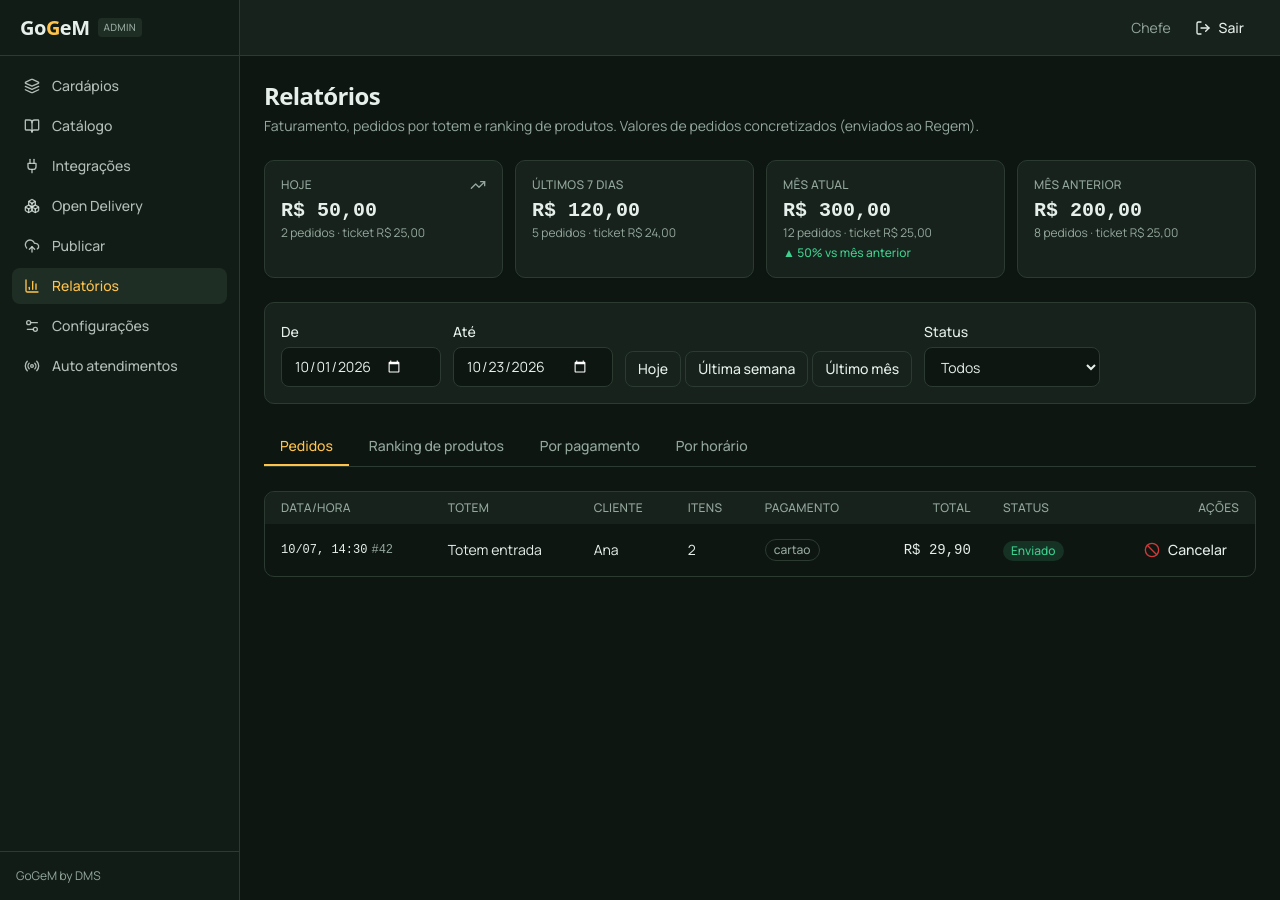
Test: Relatórios › cancela um pedido enviado com motivo
What coordinates should you click on to do the following:
click the button with aria-label "Cancelar pedido"
I would click on:
 (1186, 550)
Its box is [1132,532,1239,568].
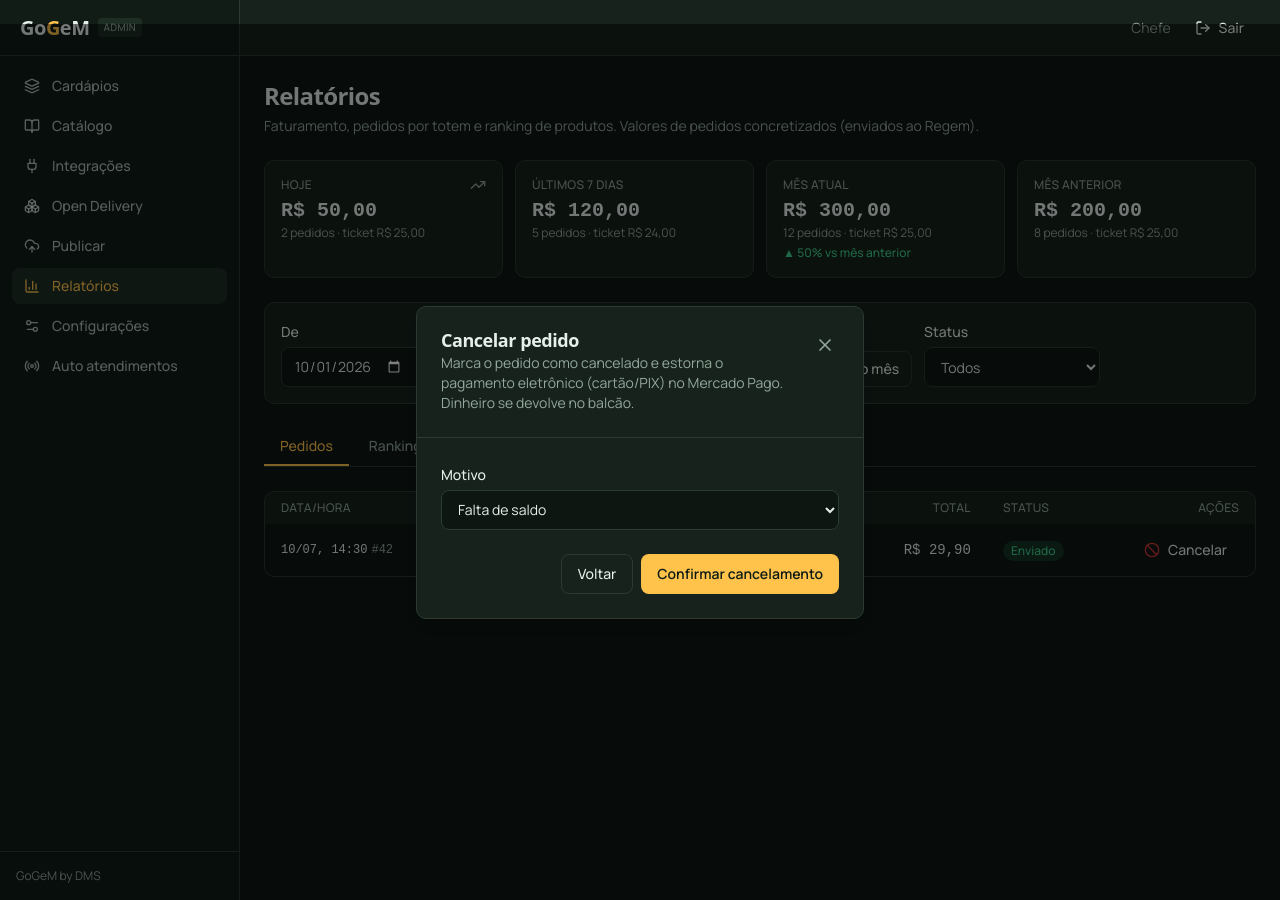
What coordinates should you click on to do the following:
click the button "Confirmar cancelamento"
I would click on:
 (740, 574)
Its box is [641,554,839,594].
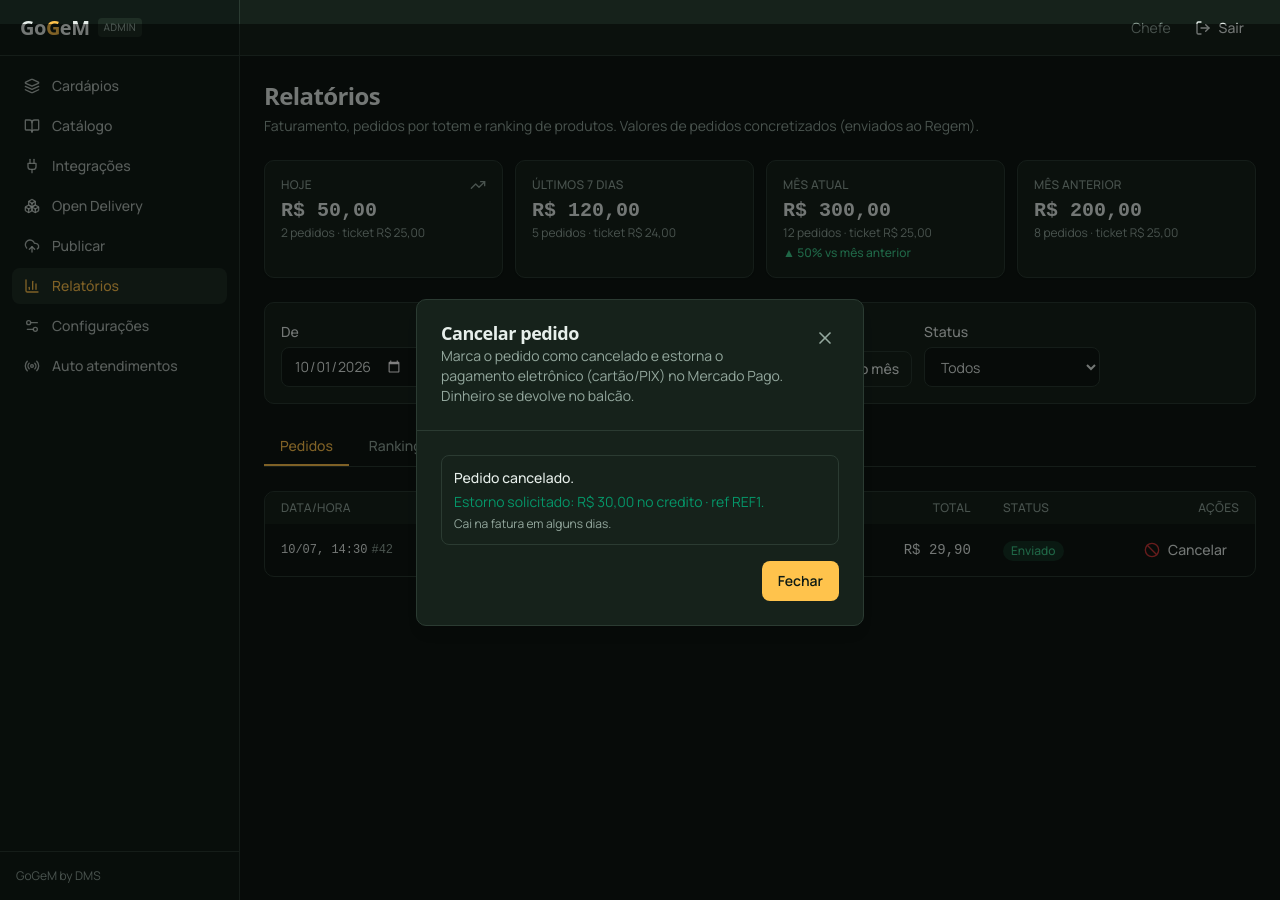
Now the text "Pedido cancelado." is shown, box [454,468,574,486]
Now the text "Estorno solicitado: R$ 30,00 no credito · ref REF1." is shown, box [454,492,764,510]
